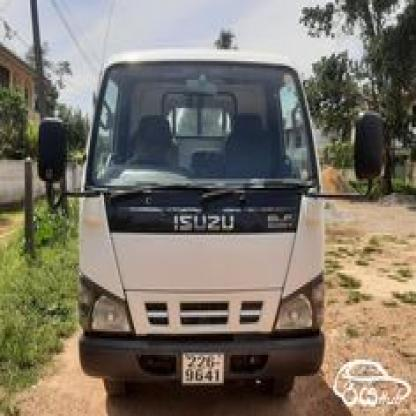Lorry front: (34, 51, 386, 407)
number plate: (182, 351, 225, 383)
